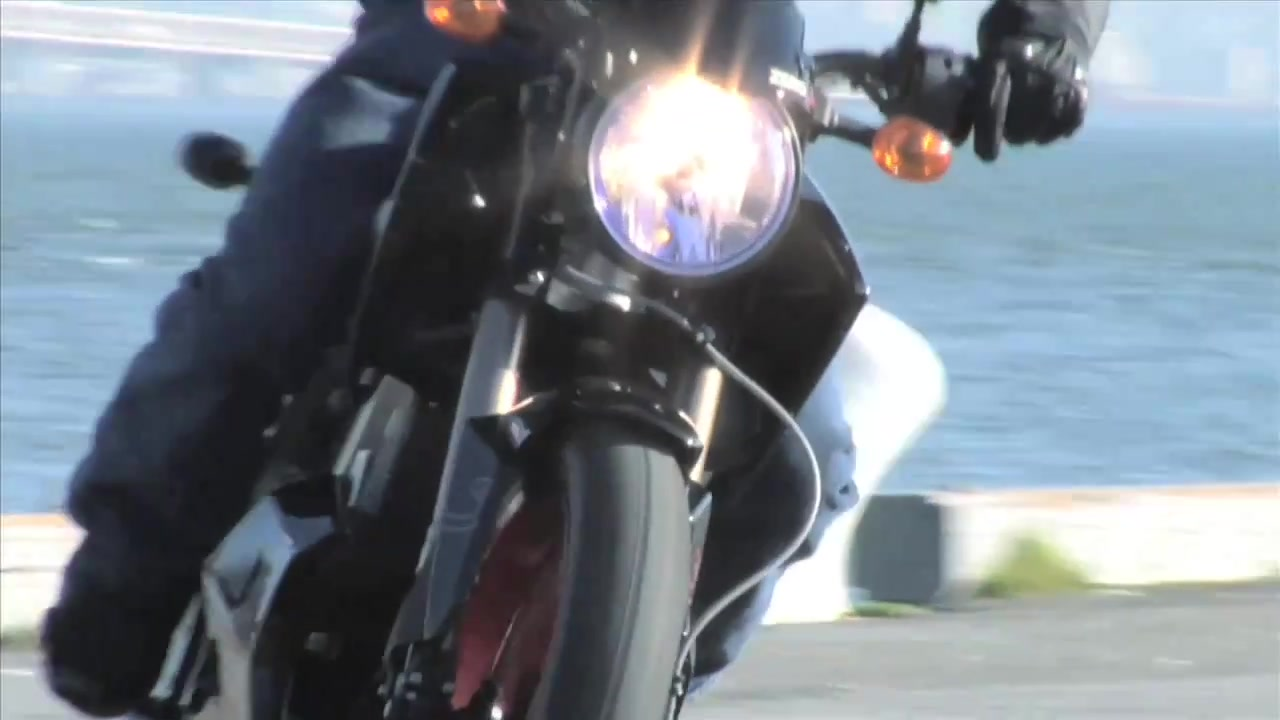motorbike: (136, 1, 1088, 719)
